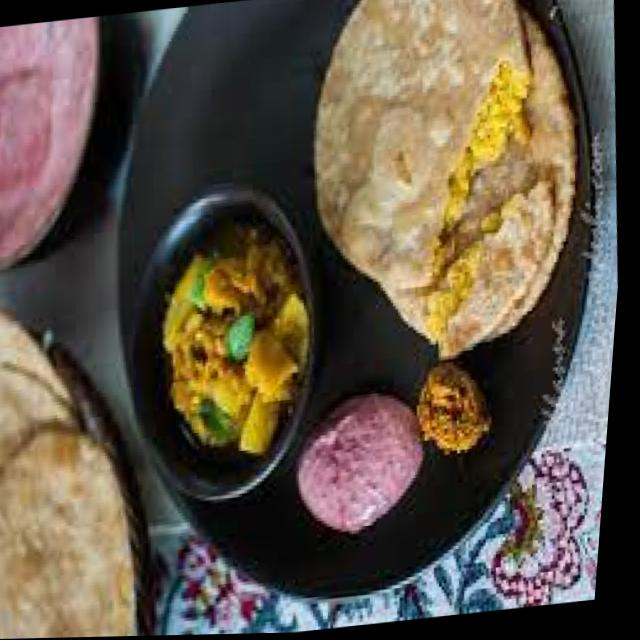CHAPATHI: (312, 0, 575, 354)
